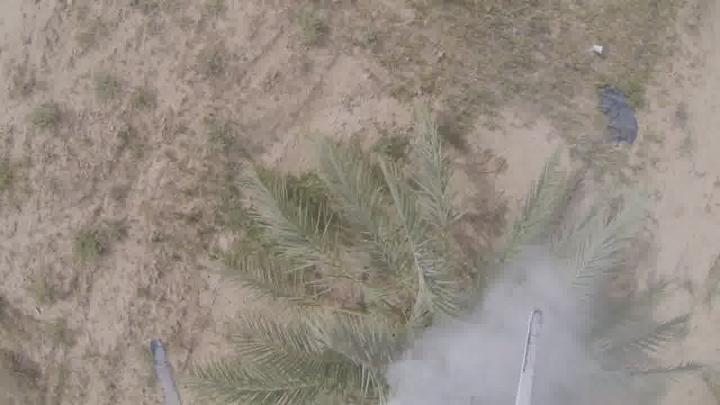Date-Palm-Crown: (312, 210, 608, 404)
